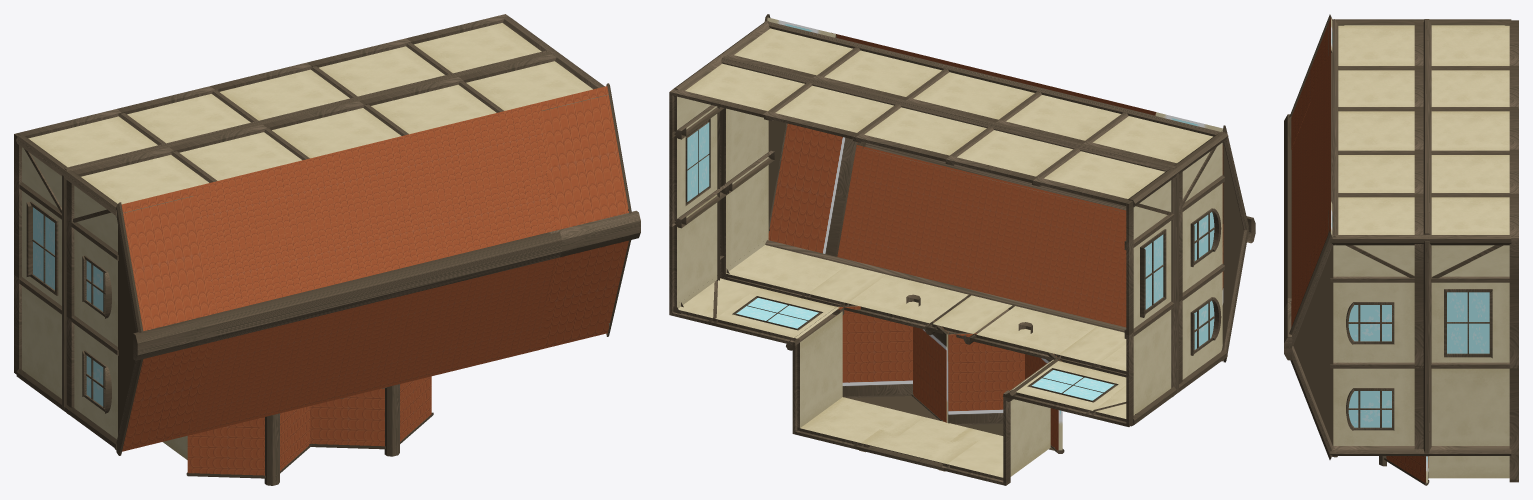
Rendered from HouseBigMansion.fbx.
3 views of the same model, side by side, from view 1: azimuth 30°, elevation 25°; view 2: azimuth 150°, elevation 25°; view 3: azimuth 270°, elevation 25° (orthographic). The views are drawn at different scales.
Parts seen in each view (by area): view 1: HouseBig; view 2: HouseBig; view 3: HouseBig.
Part boxes in pixels (<box>): HouseBig: <box>14,14,640,485</box>; HouseBig: <box>669,14,1255,485</box>; HouseBig: <box>1284,14,1518,485</box>.
Size of the model in its own units: 17.2 by 11.34 by 7.66.
Materials: 1 (1 with a texture image).
